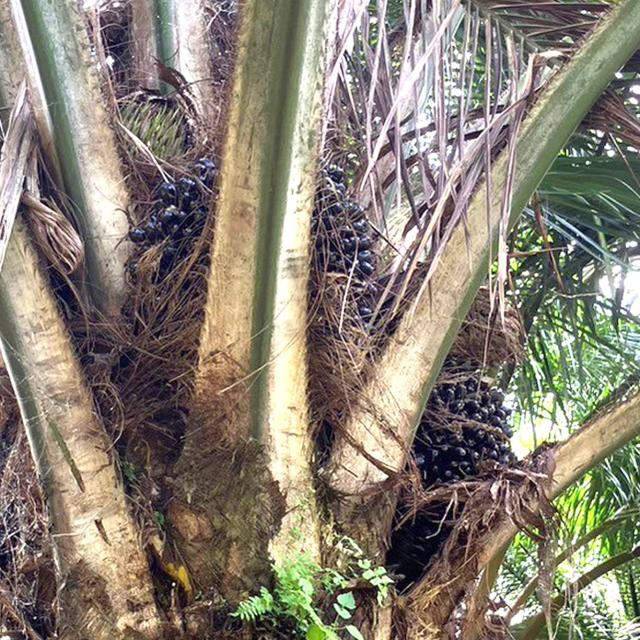unripe: (131, 160, 209, 314), (309, 167, 379, 336)
